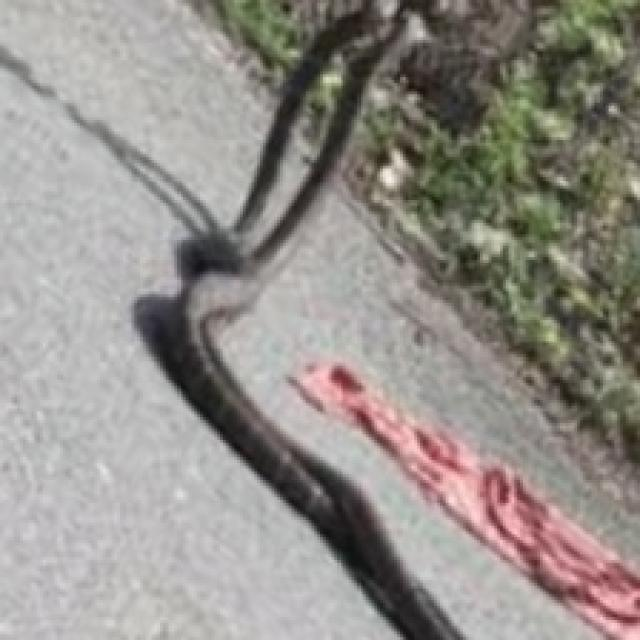king cobra: (0, 66, 400, 637), (0, 0, 271, 220), (406, 326, 511, 429)
